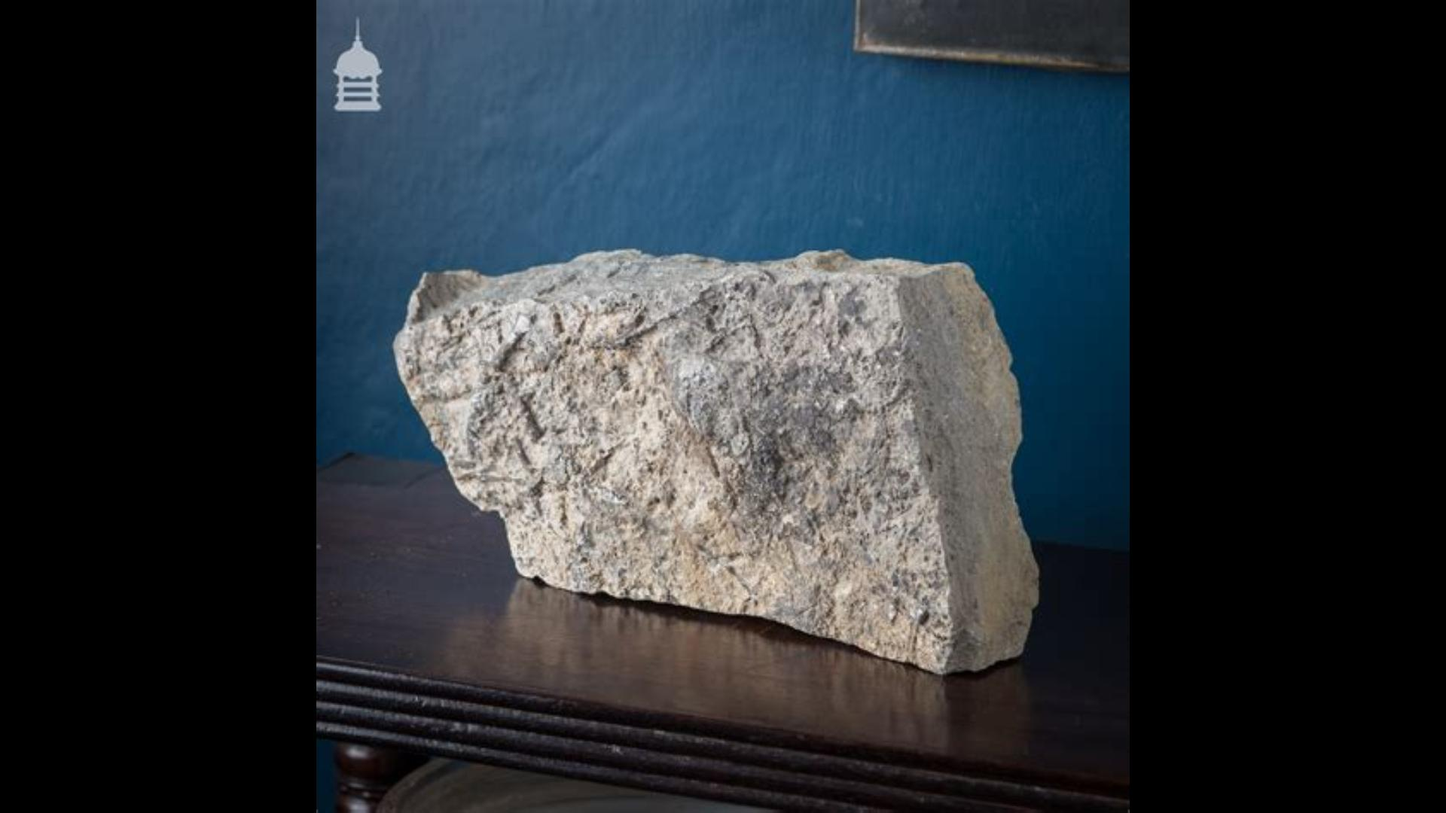rock: (399, 250, 1035, 672)
